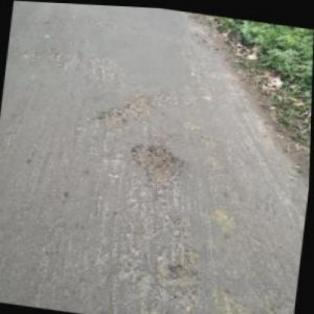Hueco: (126, 135, 190, 187), (97, 87, 155, 132), (167, 261, 194, 283)
